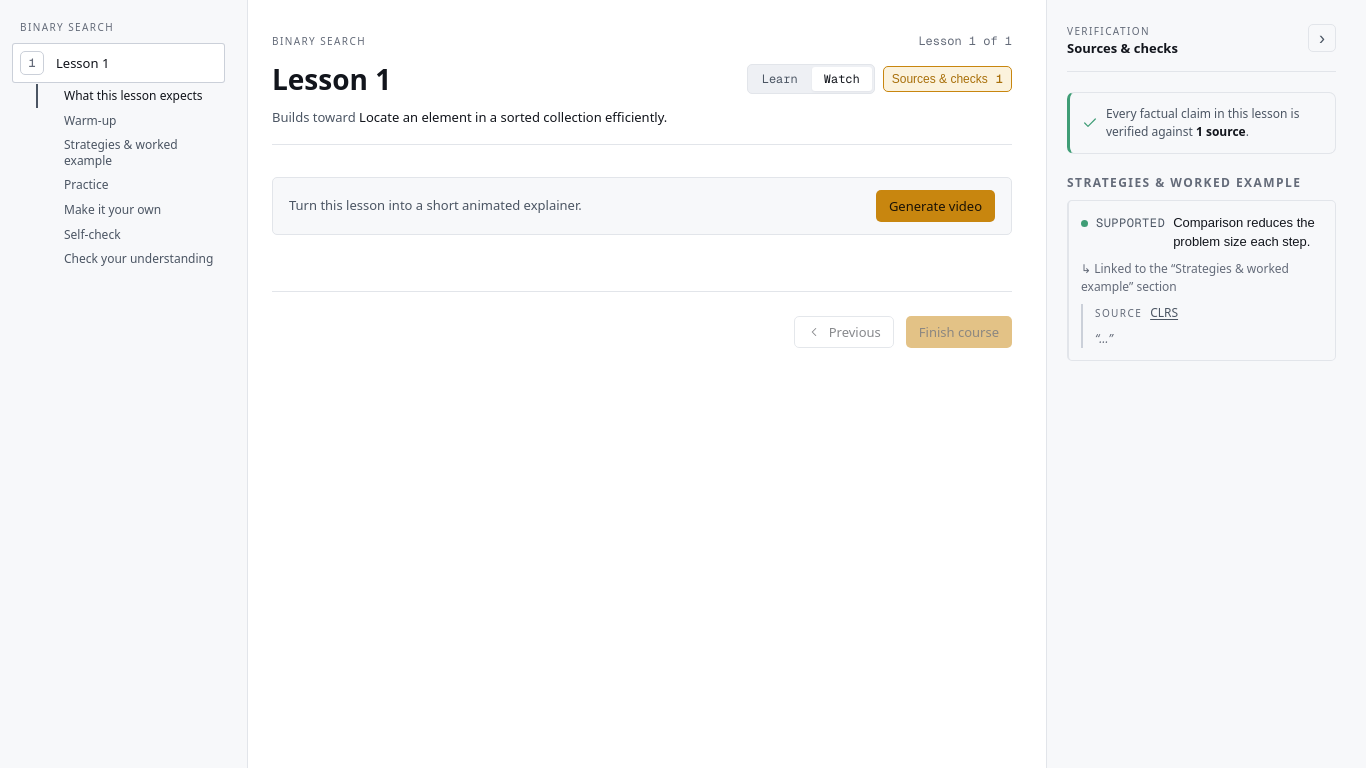
Test case: CourseReader — claim → lesson backlink › switches from Watch to Learn and jumps when a claim is located
The width and height of the screenshot is (1366, 768).
expect the radio button labelled "Watch" is checked: met, box [812, 67, 872, 91]
Click the button named "Locate in the lesson: Comparison reduces the problem size each step." at (1202,232), box [1081, 212, 1323, 252]
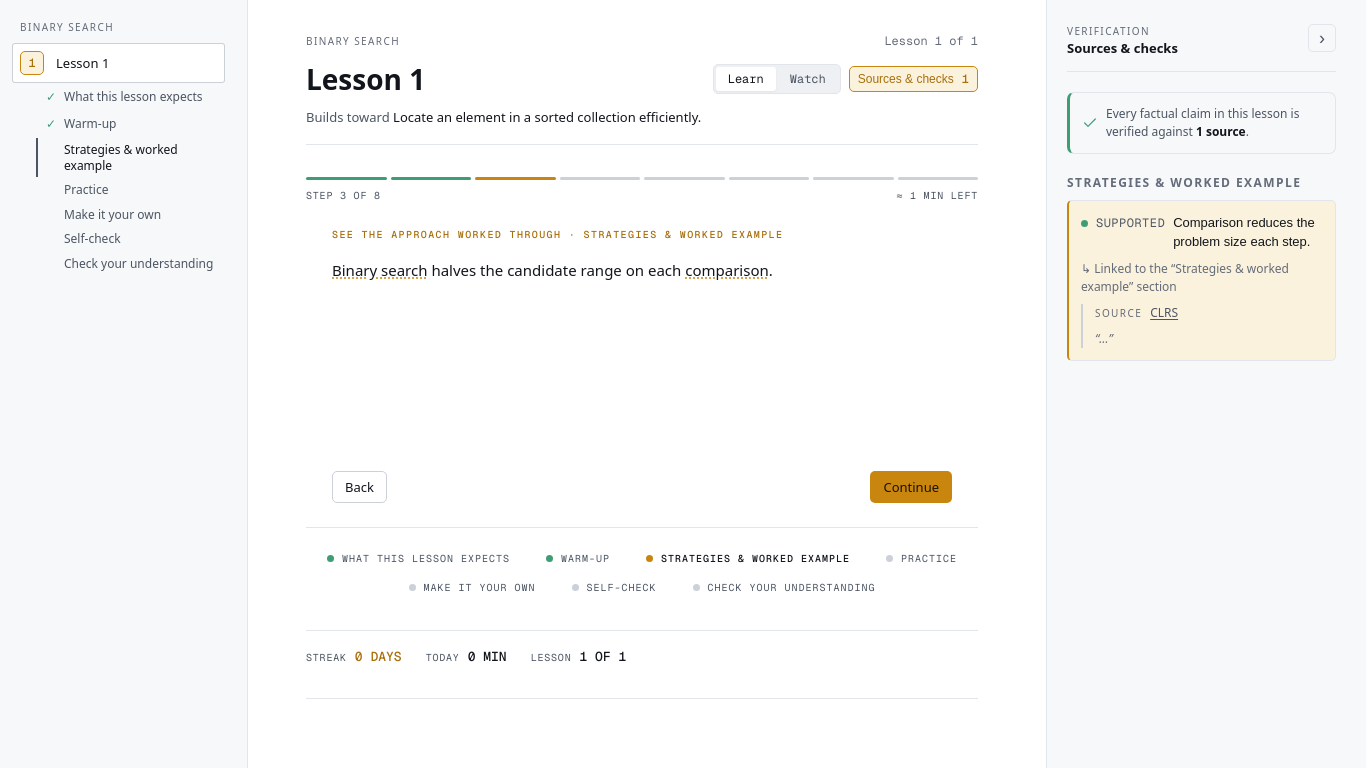
expect the radio button labelled "Learn" is checked: met, box [716, 67, 776, 91]
expect the text "Strategies & worked example" is shown: met, box [584, 228, 783, 240]
